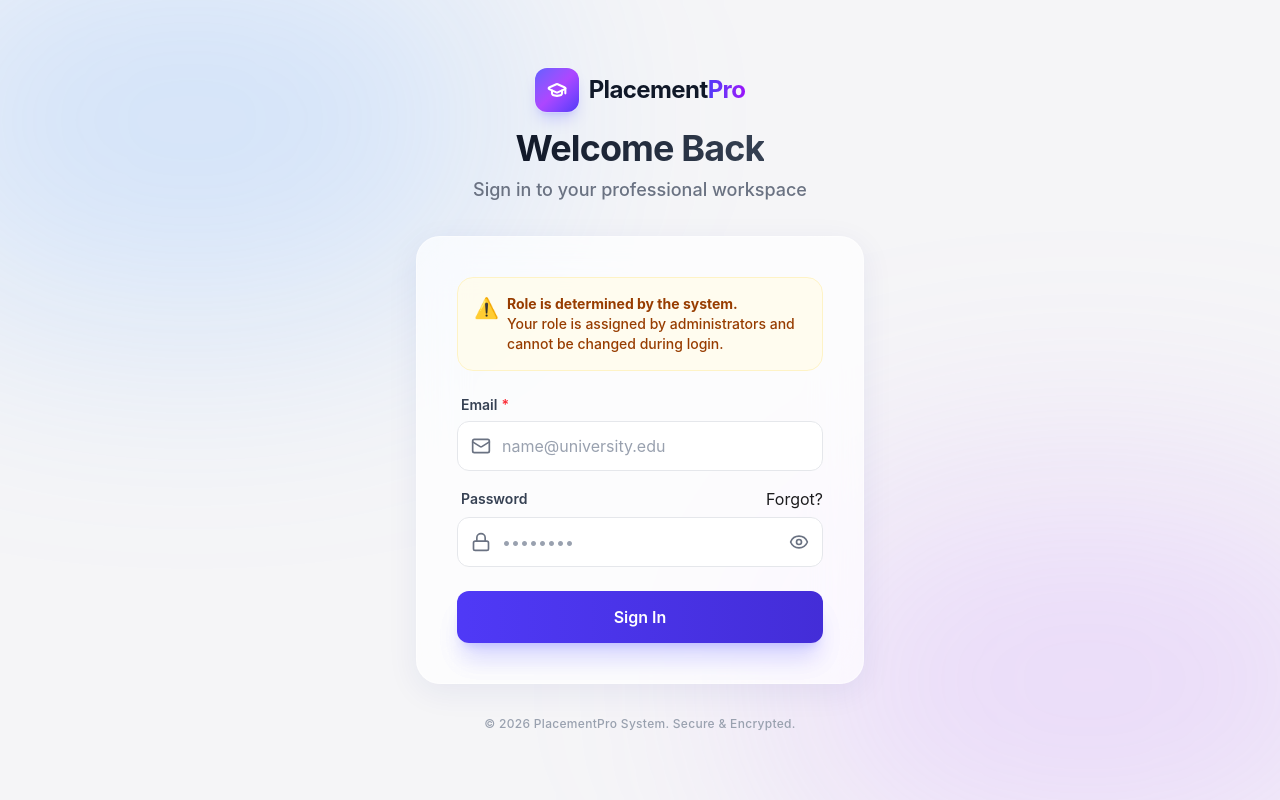
it: LoginPage › Error Messages › shows invalid credentials error
In the field with placeholder "name@university.edu": (640,446) [457, 421, 823, 471], type "user@test.edu"
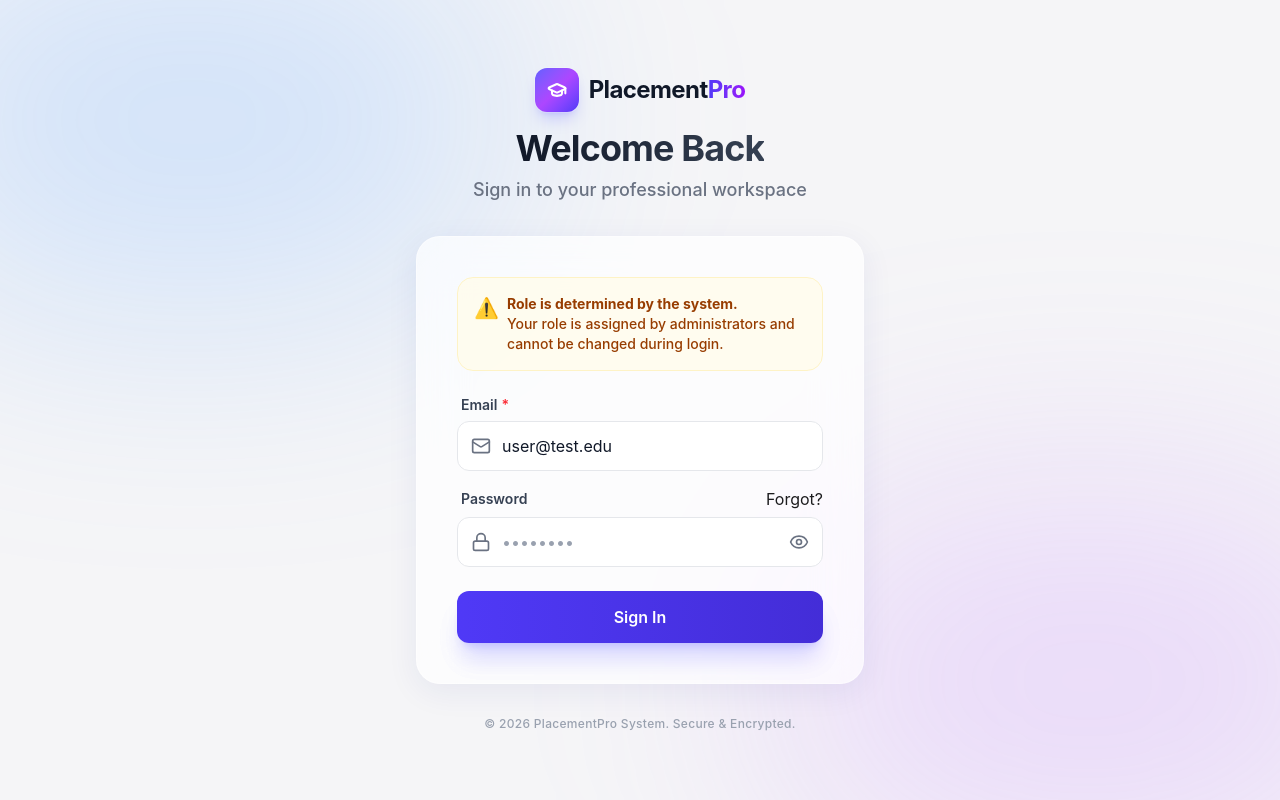
In the password field with placeholder "••••••••": (640,542) [457, 517, 823, 567], type "wrongpassword"
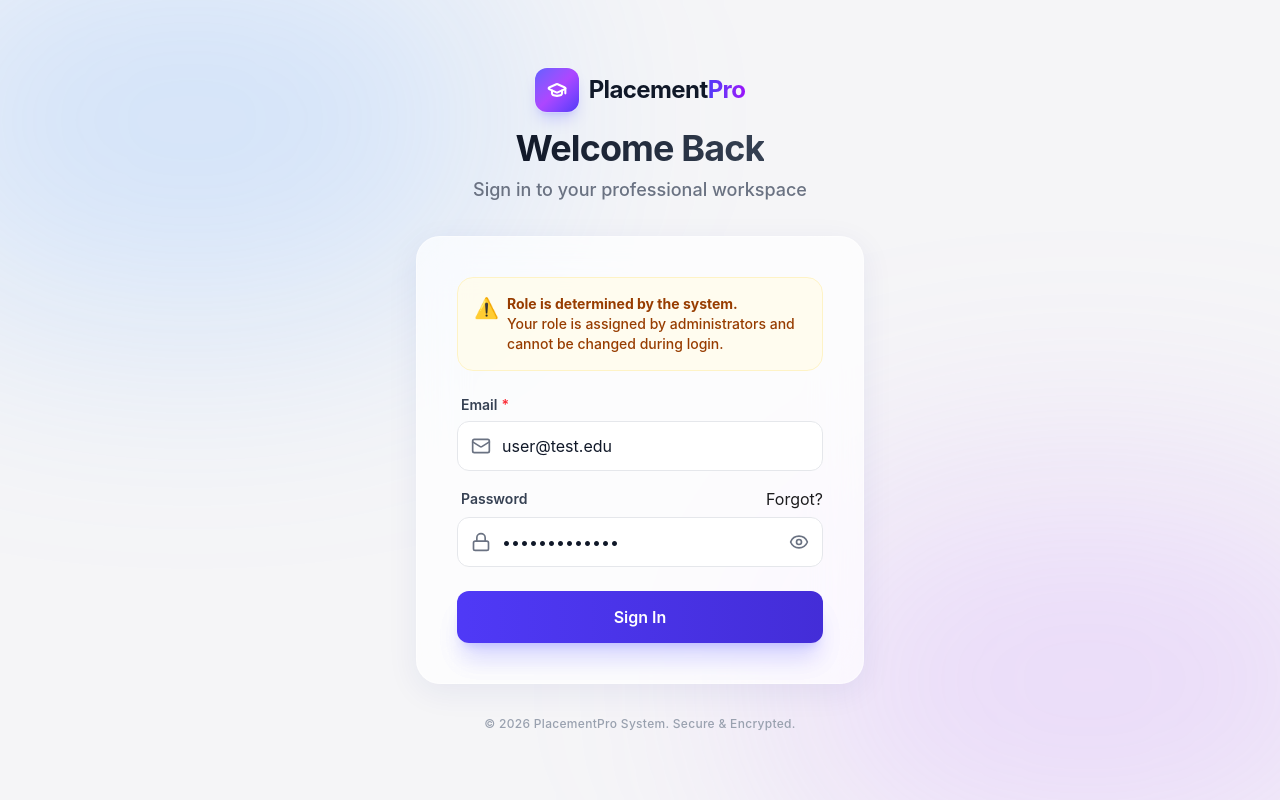
Submit the form named "sign in", box [457, 277, 823, 643]
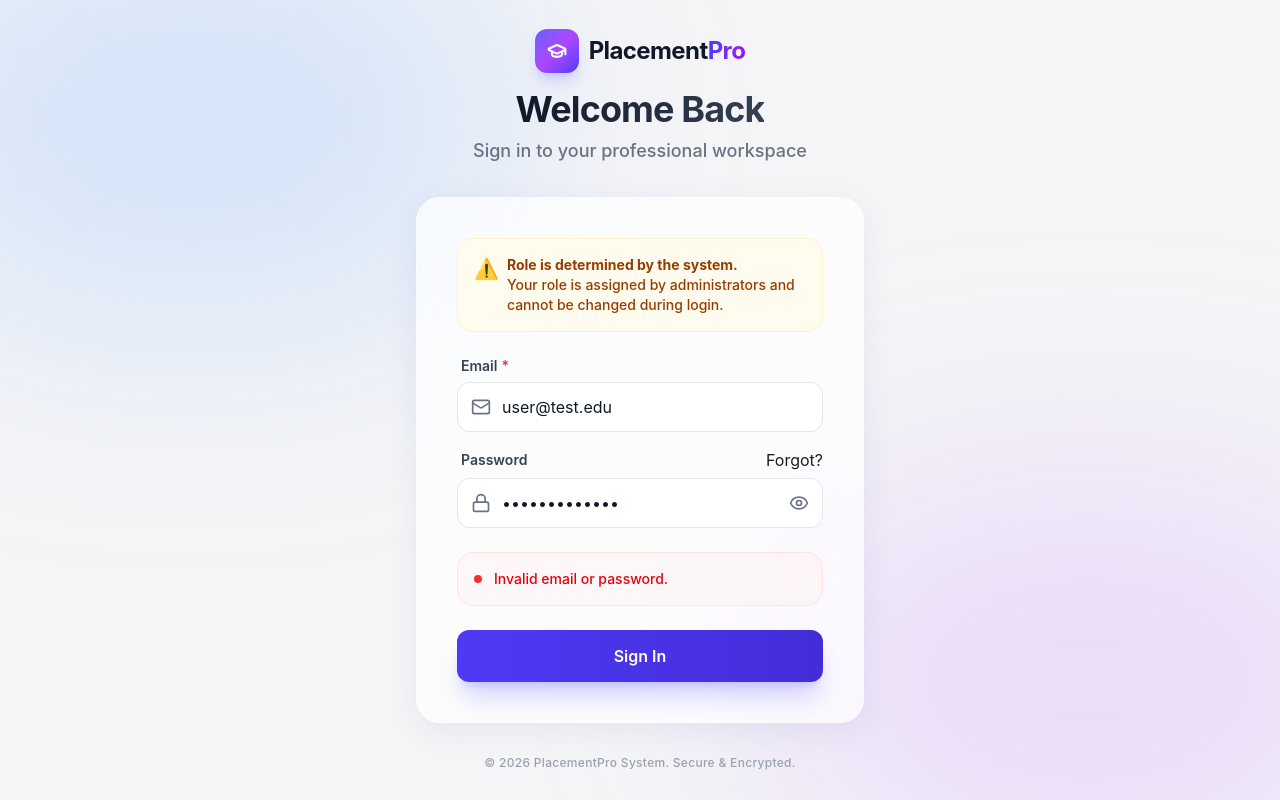
Expected: the text "Invalid email or password." is shown, [494, 569, 668, 589]
